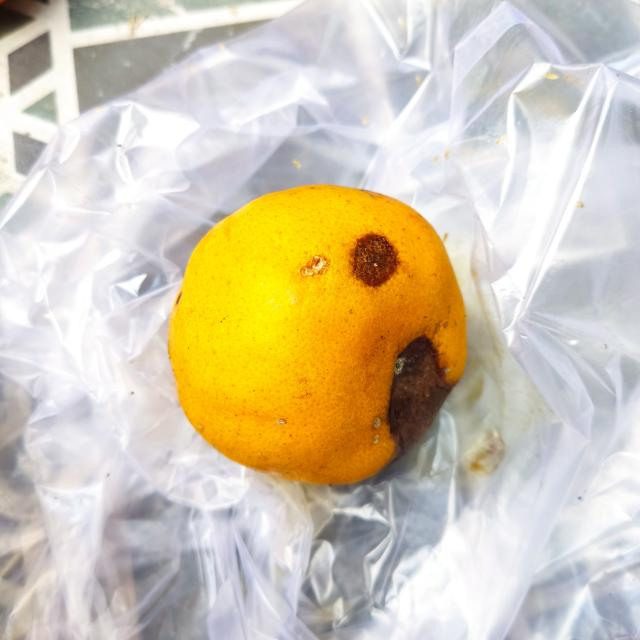orange: (160, 181, 472, 488)
